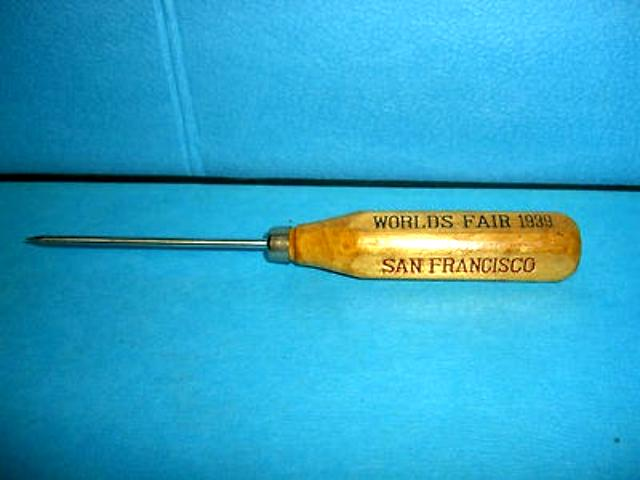ice pick: (24, 211, 580, 280)
